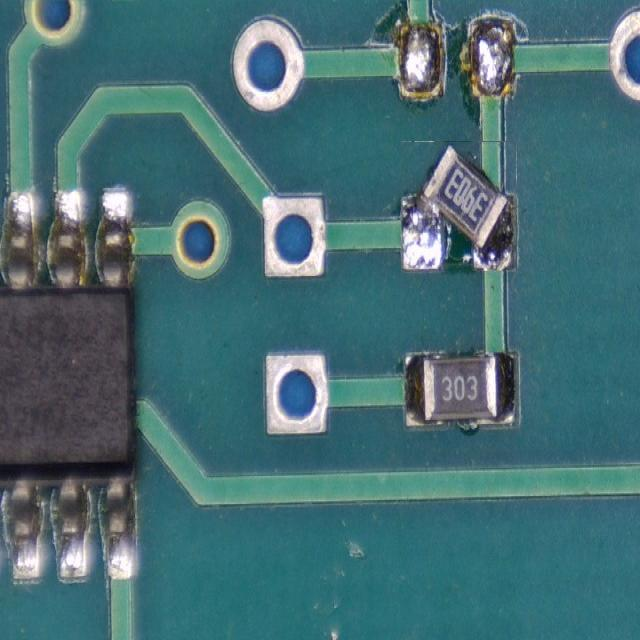Incorrect_installation: (402, 141, 515, 271)
